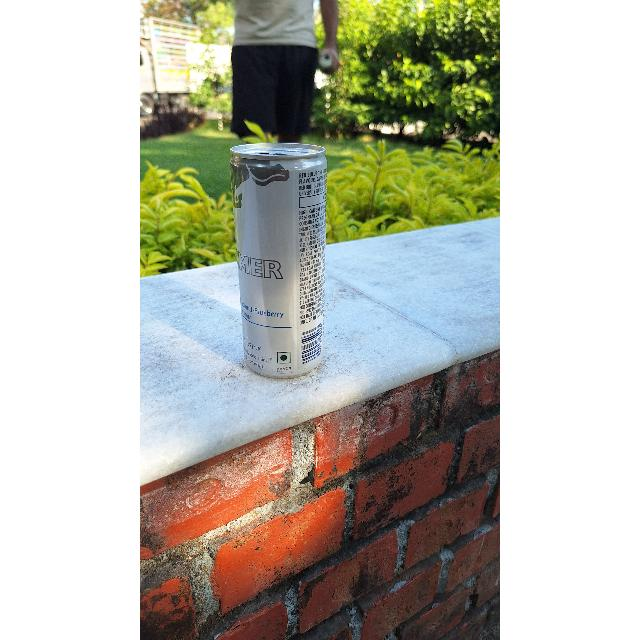Redbull Summer Edition: (230, 141, 328, 377)
